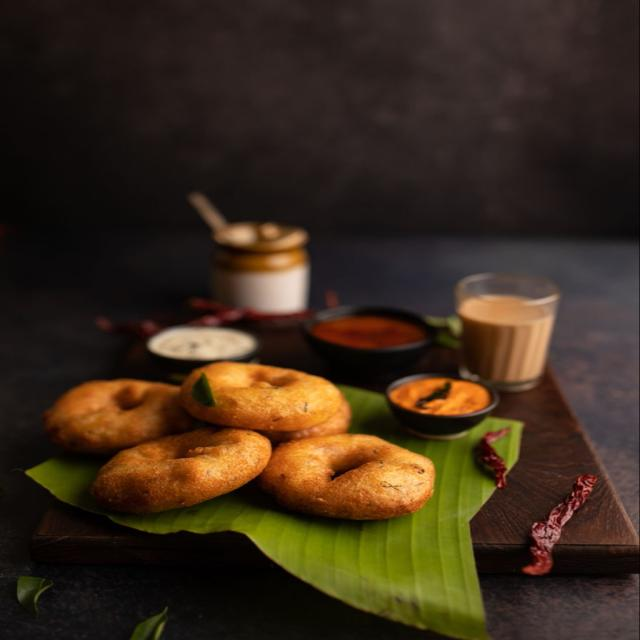MEDU VADA: (91, 427, 270, 514), (256, 434, 434, 520), (180, 363, 350, 442), (45, 379, 194, 454), (324, 472, 332, 481)
